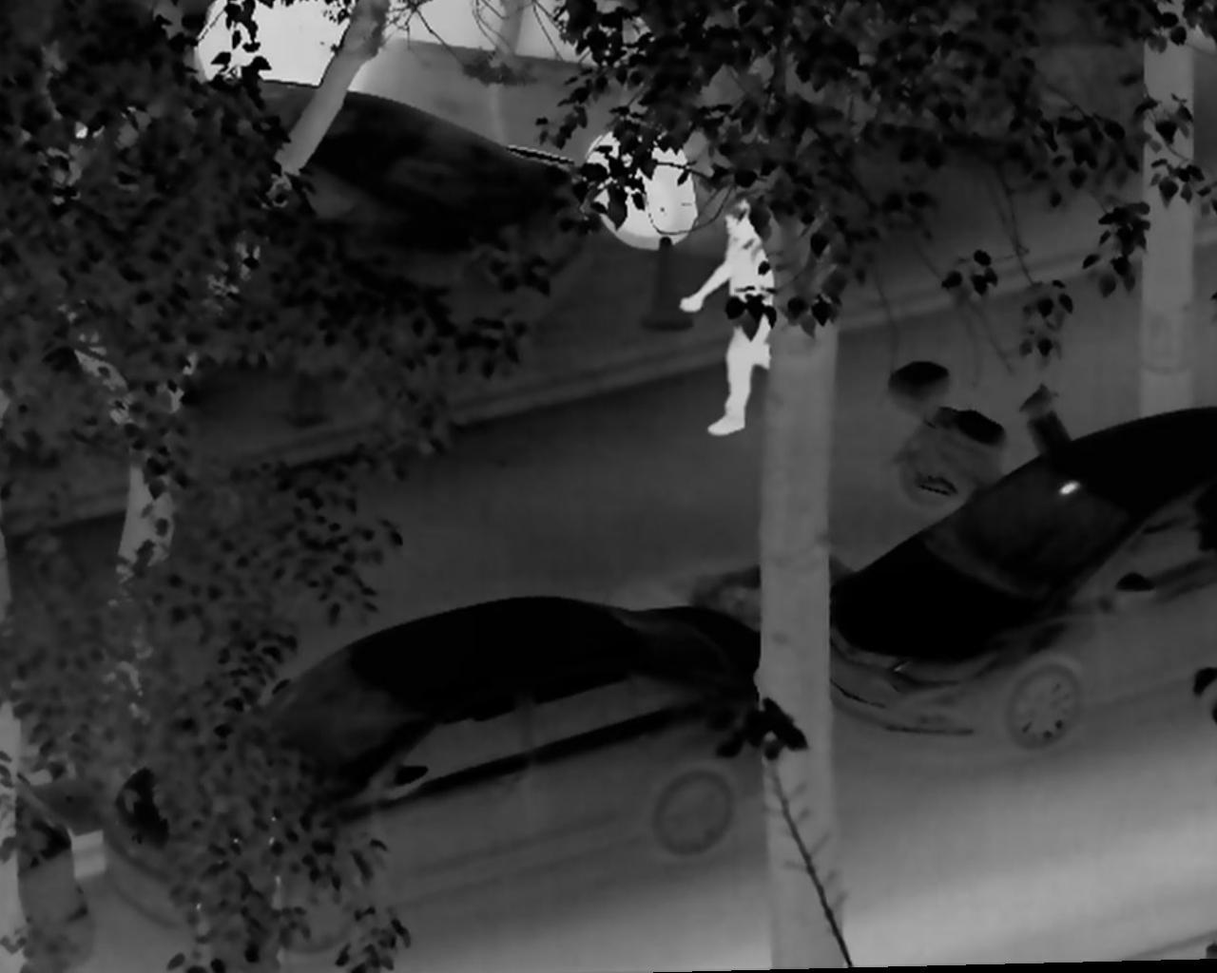person: (674, 193, 776, 441)
